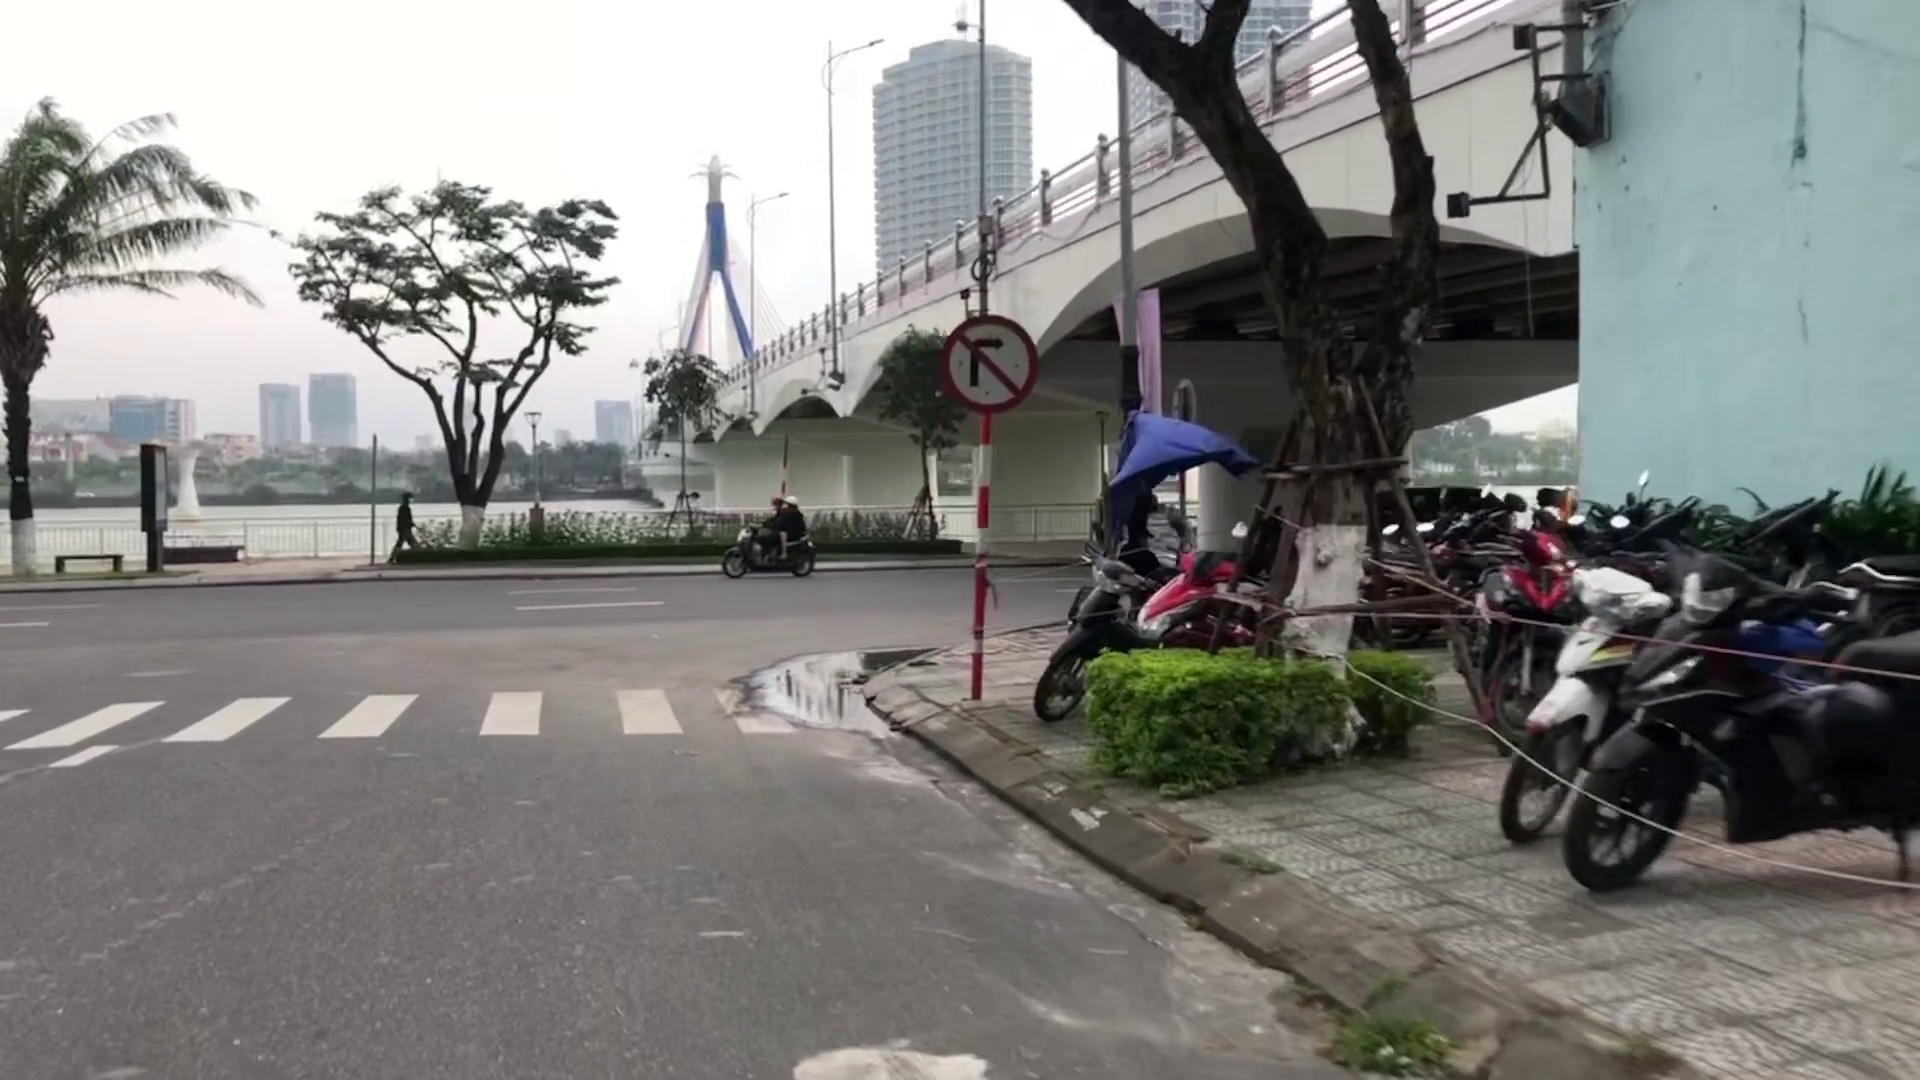Bien khac: (945, 313, 1038, 414)
